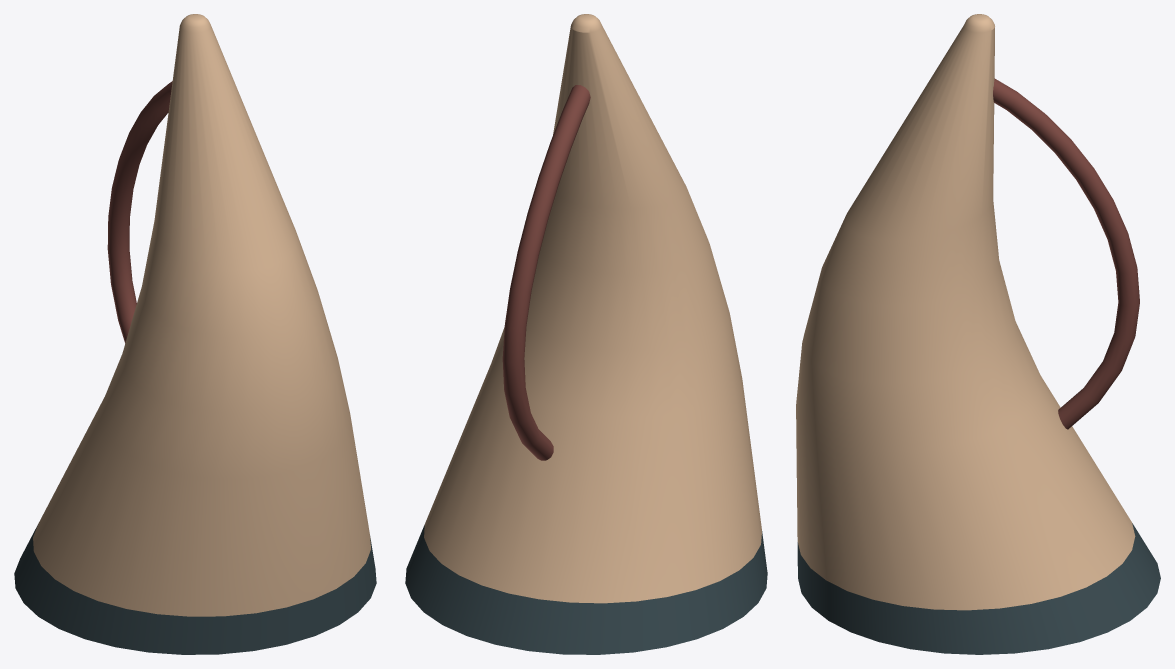
Rendered from WarHorn.fbx.
3 views of the same model, side by side, from view 1: azimuth 30°, elevation 25°; view 2: azimuth 150°, elevation 25°; view 3: azimuth 270°, elevation 25° (orthographic).
Parts seen in each view (by area): view 1: BézierCurve; view 2: BézierCurve; view 3: BézierCurve.
Part boxes in pixels (x1=…): BézierCurve: x1=14, y1=14, x2=376, y2=654; BézierCurve: x1=405, y1=14, x2=767, y2=654; BézierCurve: x1=796, y1=14, x2=1160, y2=654.
Size of the model in its own units: 200 by 341 by 201.
